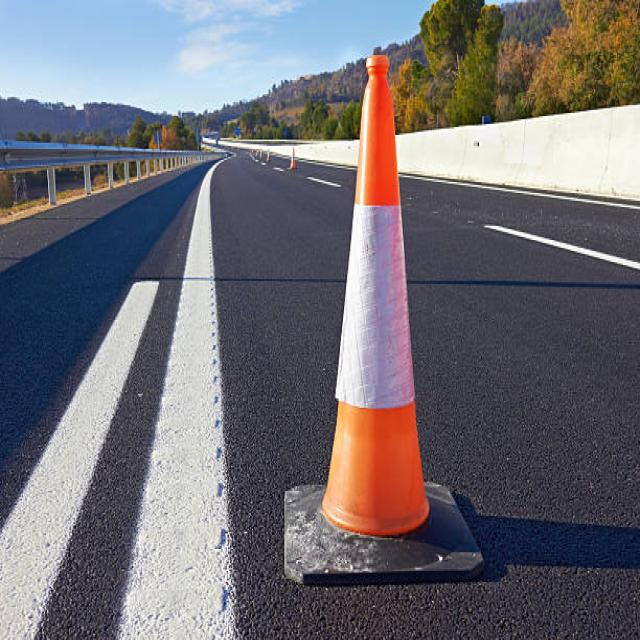Traffic Cone: (244, 12, 525, 628)
